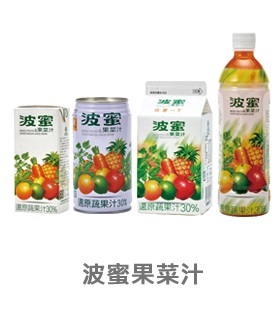vegetables juice: (138, 93, 211, 218), (73, 104, 133, 218), (7, 101, 67, 215)
